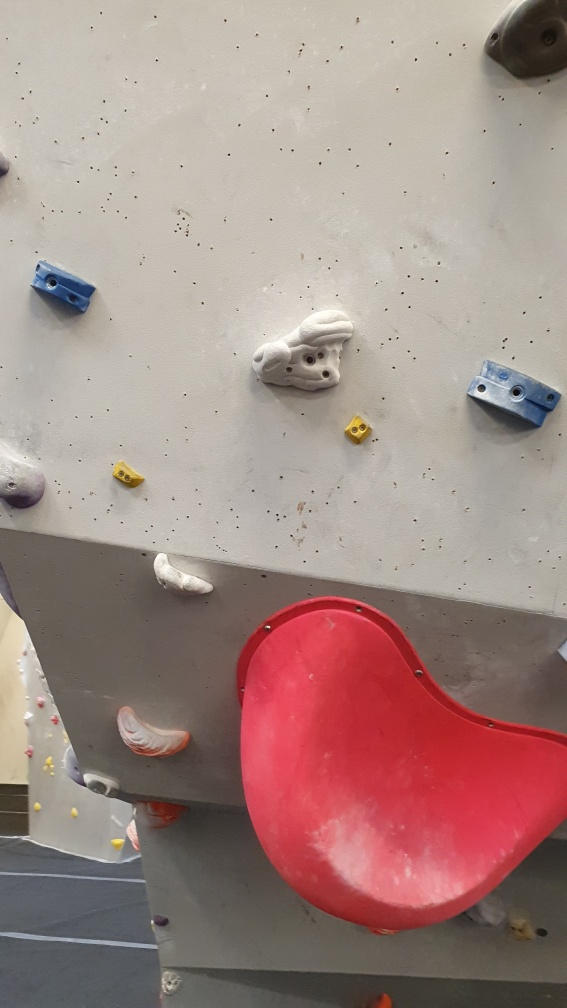Crimp: (113, 454, 149, 493)
Jug: (248, 304, 359, 401), (110, 700, 198, 762), (151, 549, 221, 605)
Pinch: (459, 356, 562, 431), (25, 253, 105, 315), (343, 411, 377, 449)
